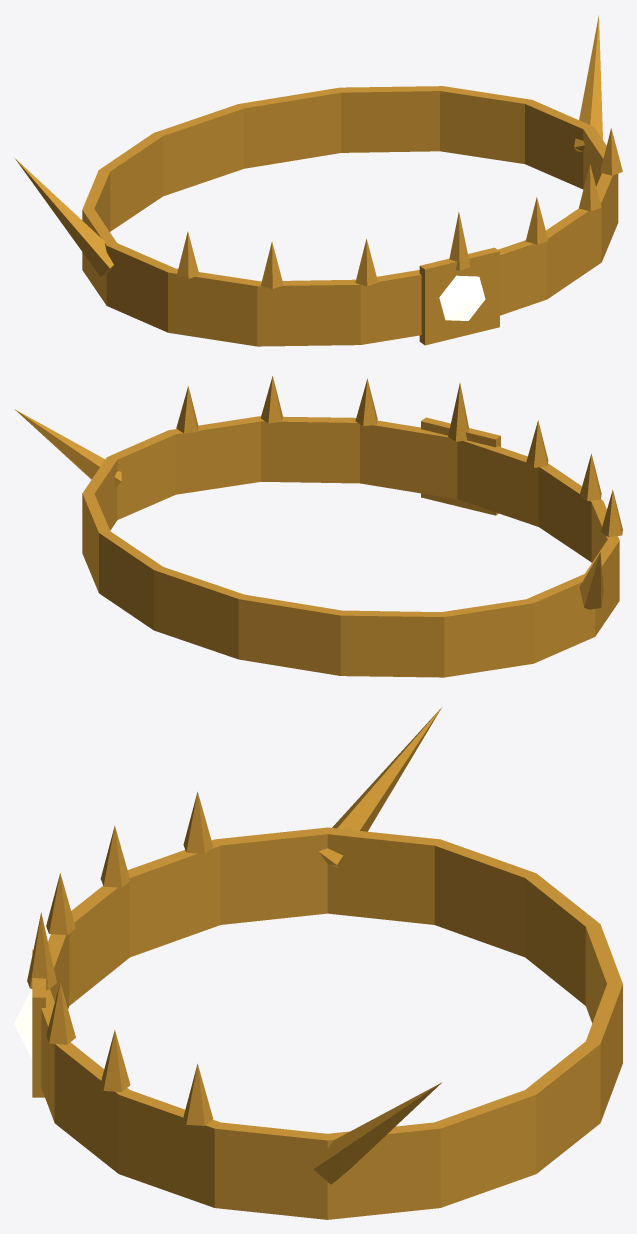
Rendered from armor_knight_head_legendary_orc.glb.
3 views of the same model, one above another, from view 1: azimuth 30°, elevation 25°; view 2: azimuth 150°, elevation 25°; view 3: azimuth 270°, elevation 25° (orthographic). The views are drawn at different scales.
Visible parts, largest first — view 1: armor_knight_head_legendary_orc__head; view 2: armor_knight_head_legendary_orc__head; view 3: armor_knight_head_legendary_orc__head.
Boxes of the visible parts, <box> form: armor_knight_head_legendary_orc__head: <box>15,15,622,346</box>; armor_knight_head_legendary_orc__head: <box>14,376,622,677</box>; armor_knight_head_legendary_orc__head: <box>14,706,622,1219</box>.
Bounding box in the file's own units: 78.17 × 17.43 × 53.52.
